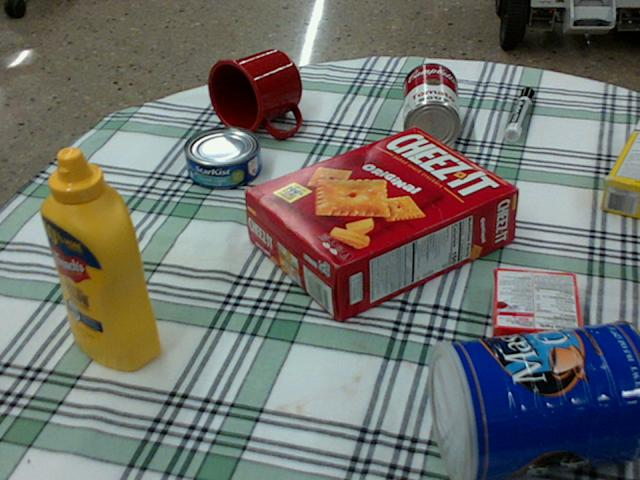cracker_box: (245, 128, 518, 321)
gelatin_box: (492, 268, 582, 352)
large_marker: (503, 87, 534, 140)
master_chef_can: (427, 317, 639, 479)
mug: (206, 49, 301, 135)
mustard_bottle: (40, 147, 161, 370)
sugar_box: (603, 117, 639, 219)
tomato_soup_can: (402, 62, 460, 150)
tuna_fish_can: (182, 126, 260, 188)
